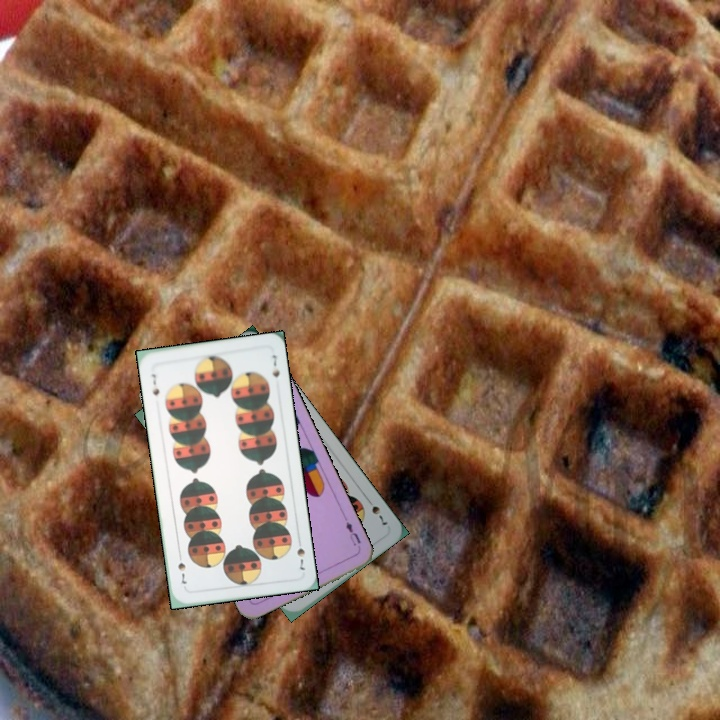EU: (340, 513, 363, 548)
S7: (362, 494, 391, 530), (293, 534, 308, 573), (147, 370, 162, 398)
